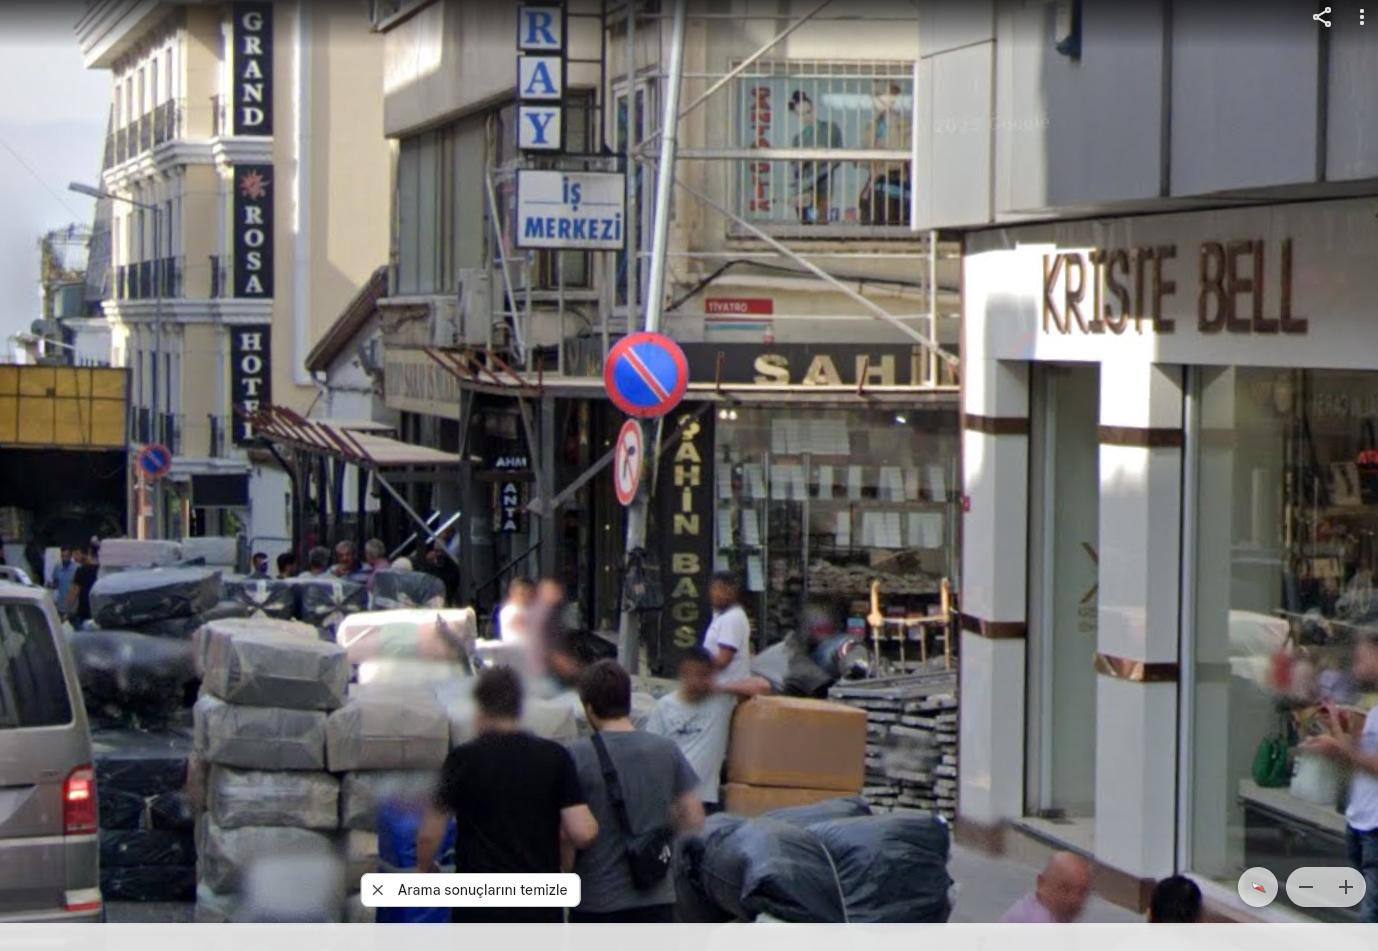nopark: (613, 336, 685, 417)
rightturnsareforbidden: (612, 421, 646, 504)
